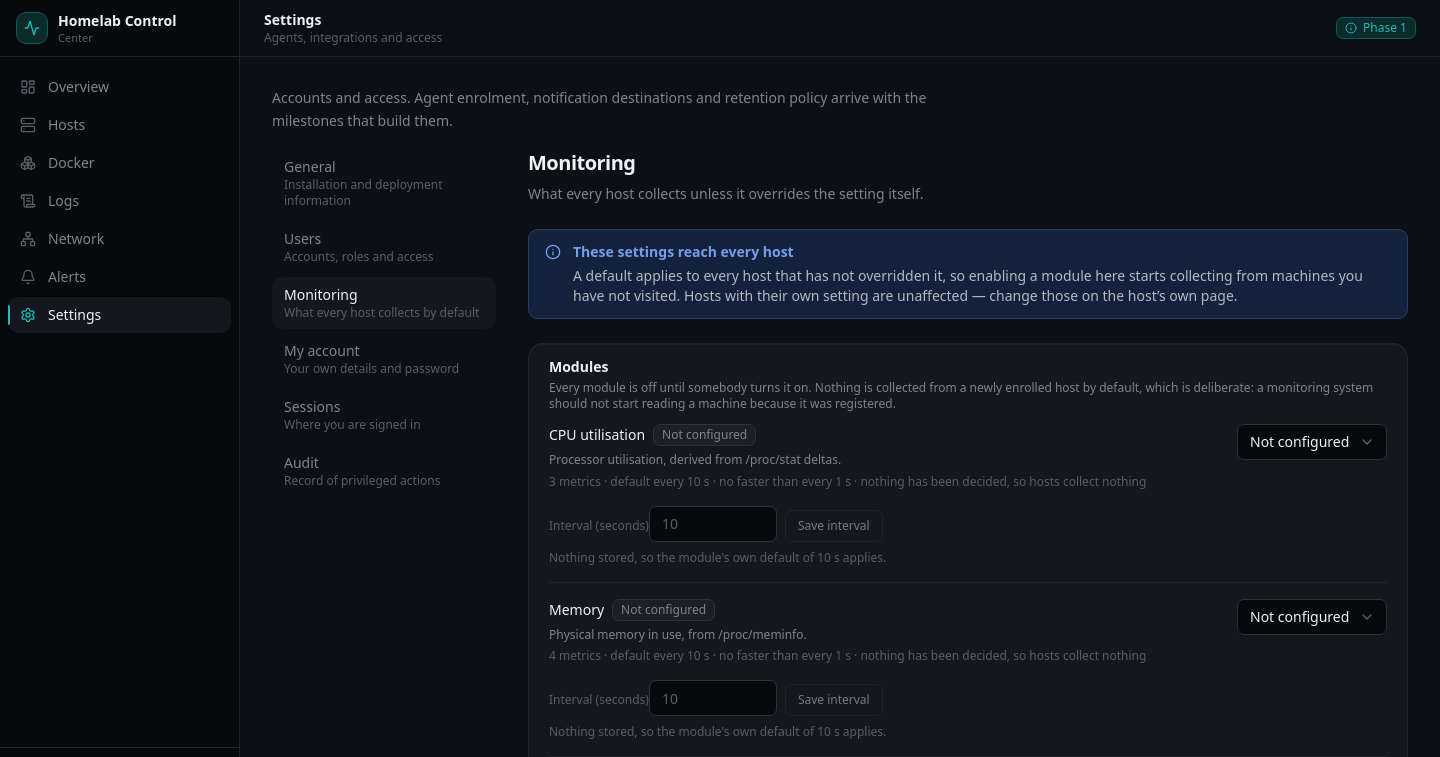
Scenario: turning a module on › reflects the new state
expect the heading "Modules" is shown: met, box [549,357,608,376]
Select "On" in the dropdown named "CPU utilisation default" in the row of "CPU utilisation" at point(1312, 442), box [1237,424,1387,460]
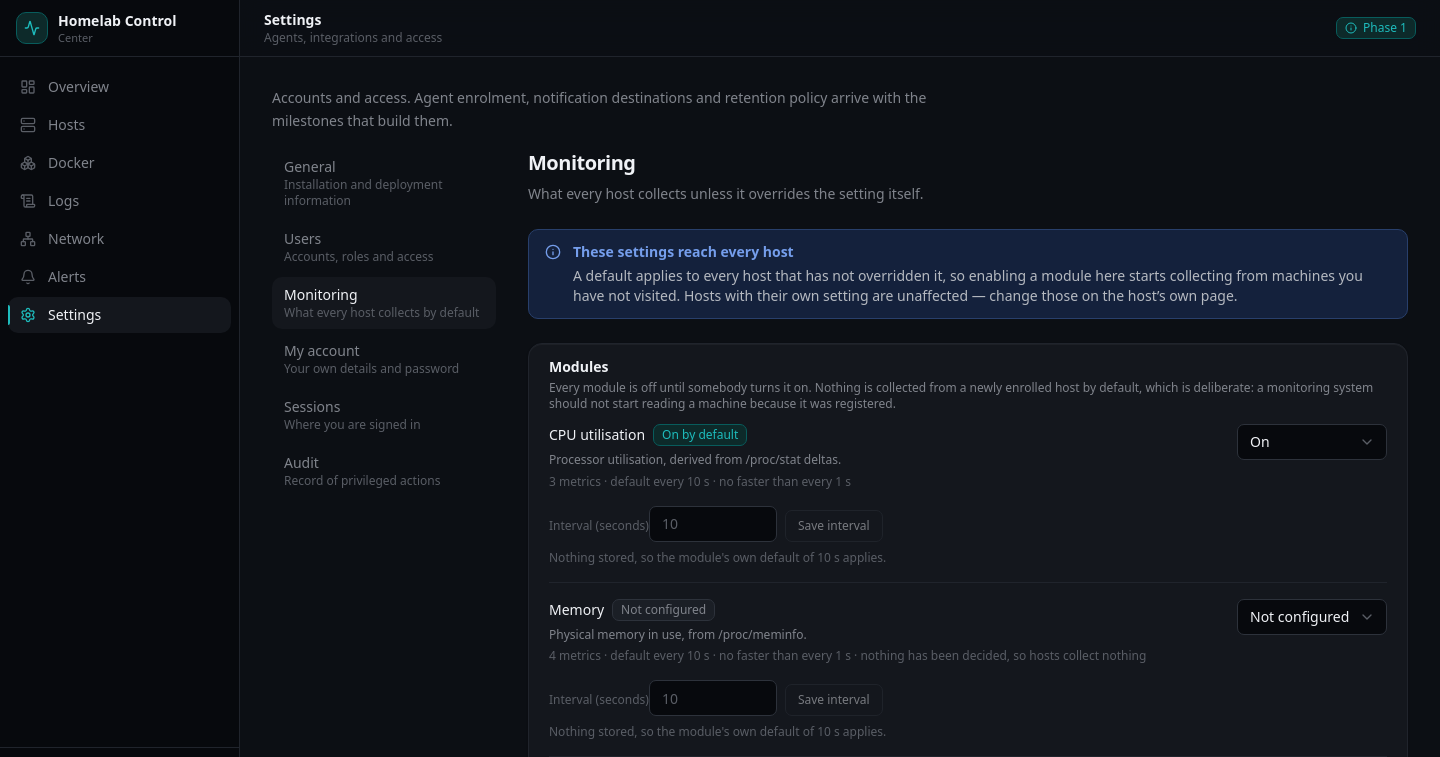
expect the text "On by default" is shown: met, box [653,424,747,446]
